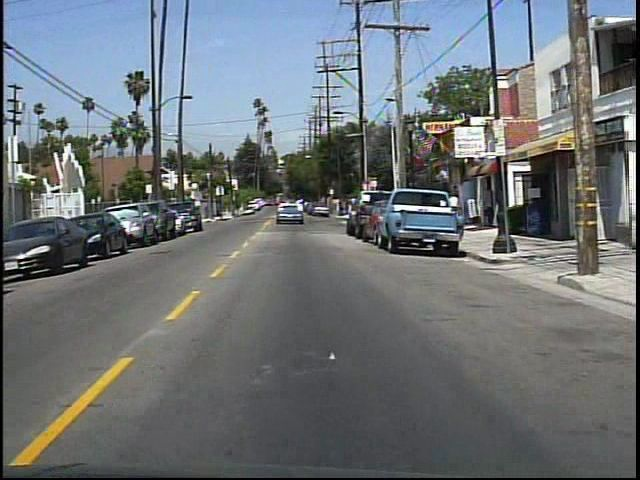person: (445, 188, 466, 231)
